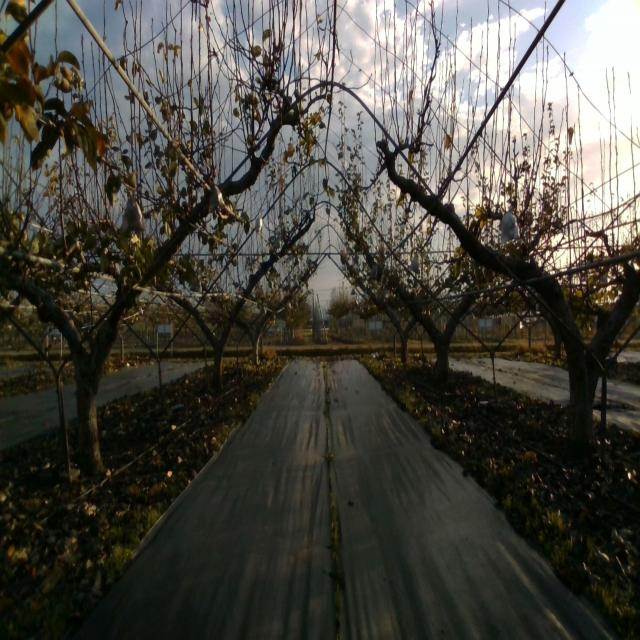pearbags: (120, 190, 146, 235), (500, 206, 521, 244), (208, 184, 226, 213)
